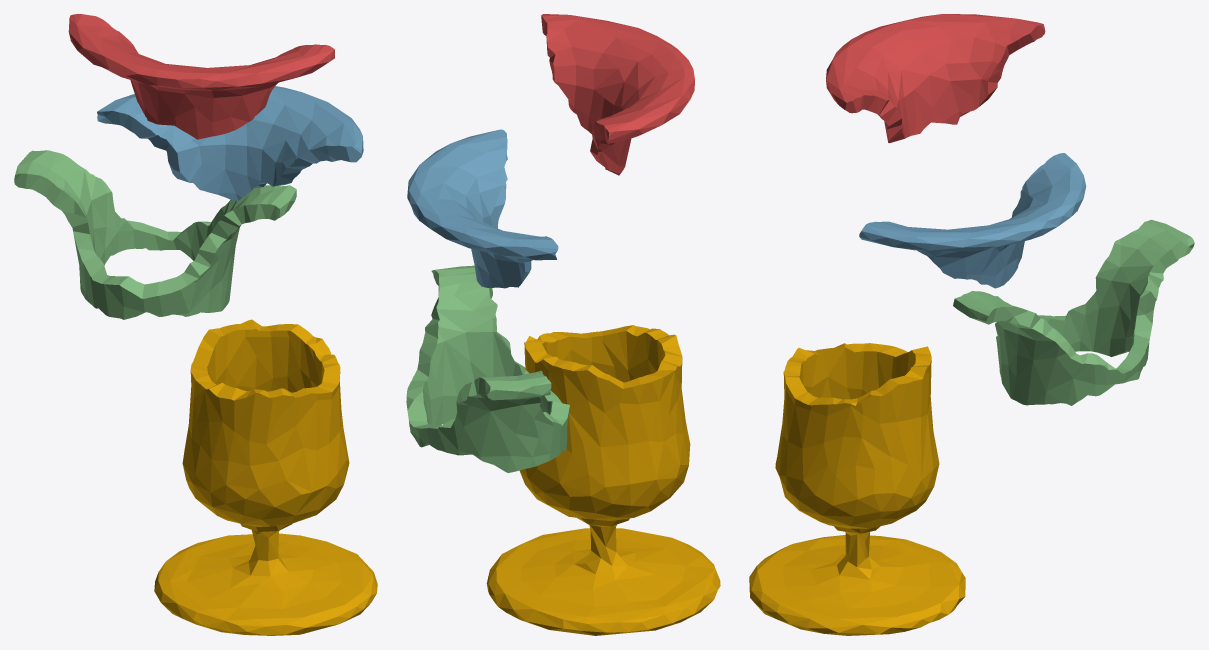
Rendered from fractured_6_4pcs_transformed.glb.
3 renders of one model, left to right at view 1: azimuth 30°, elevation 25°; view 2: azimuth 150°, elevation 25°; view 3: azimuth 270°, elevation 25°, orthographic. The views are drawn at different scales.
Parts seen in each view (by area): view 1: piece_0.obj, piece_3.obj, piece_2.obj, piece_1.obj; view 2: piece_0.obj, piece_3.obj, piece_1.obj, piece_2.obj; view 3: piece_0.obj, piece_3.obj, piece_1.obj, piece_2.obj.
Boxes of the visible parts, x1=… form: piece_0.obj: x1=154, y1=319, x2=377, y2=635; piece_3.obj: x1=14, y1=150, x2=296, y2=319; piece_2.obj: x1=97, y1=86, x2=363, y2=201; piece_1.obj: x1=68, y1=14, x2=334, y2=139; piece_0.obj: x1=486, y1=325, x2=720, y2=635; piece_3.obj: x1=406, y1=265, x2=569, y2=472; piece_1.obj: x1=541, y1=14, x2=694, y2=175; piece_2.obj: x1=407, y1=129, x2=558, y2=288; piece_0.obj: x1=749, y1=343, x2=965, y2=635; piece_3.obj: x1=953, y1=219, x2=1194, y2=405; piece_1.obj: x1=826, y1=14, x2=1045, y2=143; piece_2.obj: x1=859, y1=153, x2=1086, y2=288.
Bounding box in the file's own units: 0.7742 × 1.6 × 1.24.
